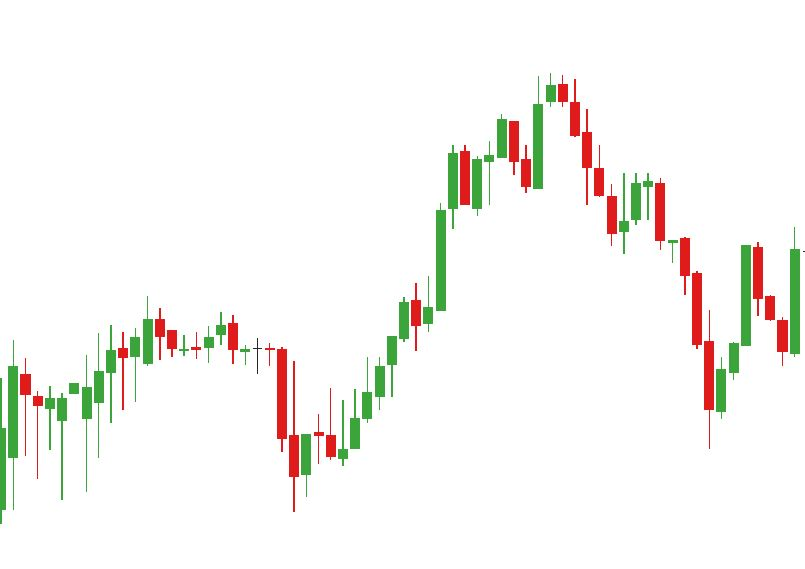buy: (79, 338, 313, 521)
